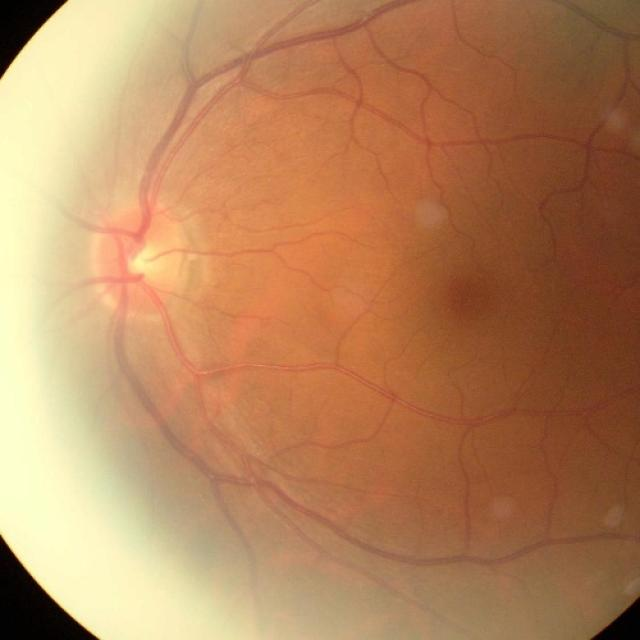OC: (126, 244, 159, 277)
OD: (94, 212, 192, 315)
